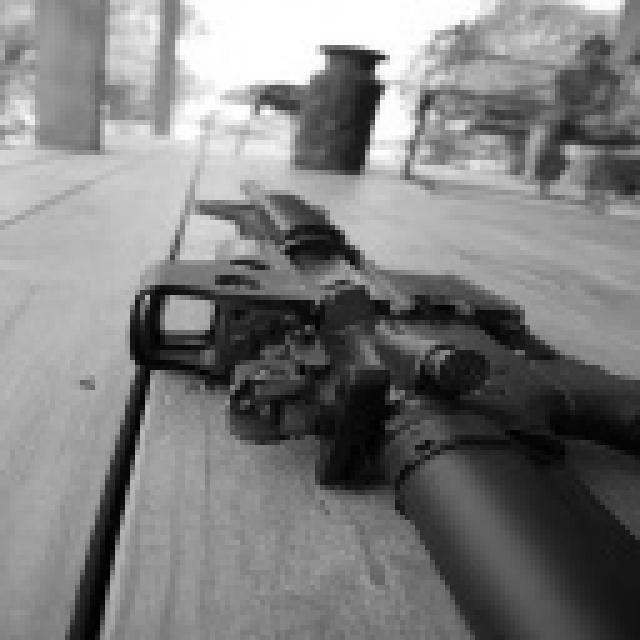Rifle: (115, 165, 640, 640)
